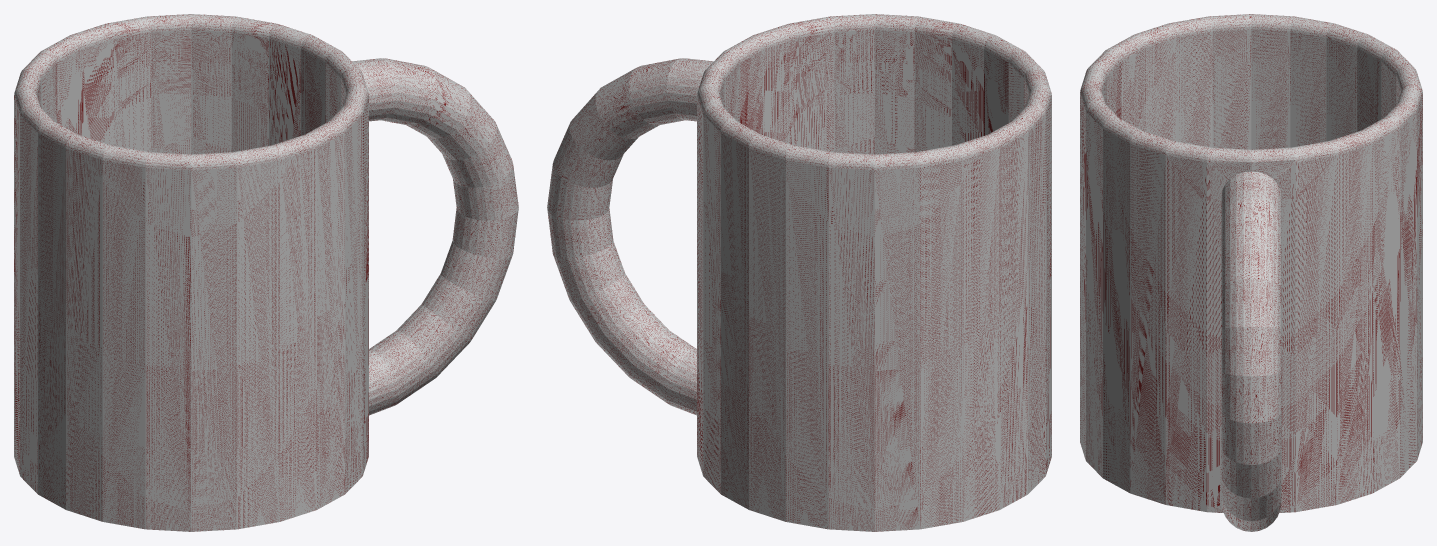
3 views of the same model, side by side, from view 1: azimuth 30°, elevation 25°; view 2: azimuth 150°, elevation 25°; view 3: azimuth 270°, elevation 25° (orthographic). The views are drawn at different scales.
Visible parts, largest first — view 1: mesh1_mesh1-geometry; view 2: mesh1_mesh1-geometry; view 3: mesh1_mesh1-geometry.
Part boxes in pixels (left/top/right/bottom): mesh1_mesh1-geometry: left=14, top=14, right=518, bottom=531; mesh1_mesh1-geometry: left=547, top=14, right=1051, bottom=531; mesh1_mesh1-geometry: left=1080, top=14, right=1422, bottom=531.
Size of the model in its own units: 0.7118 by 0.532 by 0.4586.
